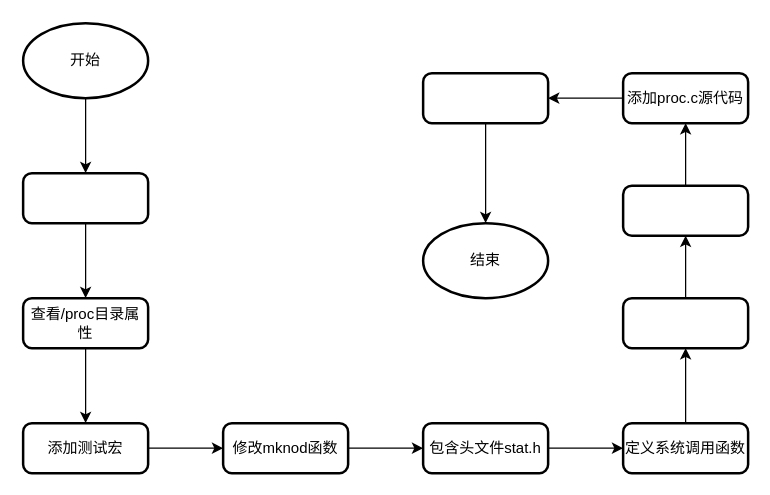
Some shapes in this 770 by 495 pixel diagram are drawn without their labels. The centre of each missing label's shape, as x and y in pixels:
创建/proc目录和psinfo节点: pixel 685 322
声明psread函数: pixel 685 210
添加新文件类型宏定义: pixel 85 197
生成项目, 确定没有语法错误, 启动调试: pixel 485 97
